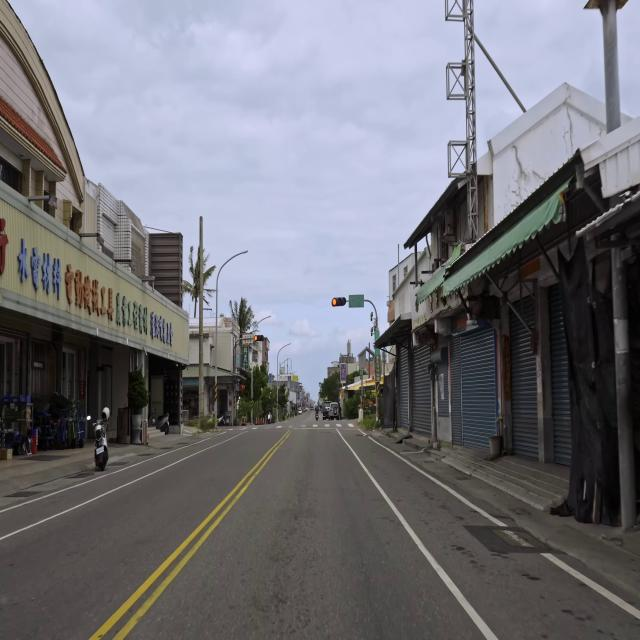red light: (332, 297, 346, 307), (254, 335, 264, 341)
